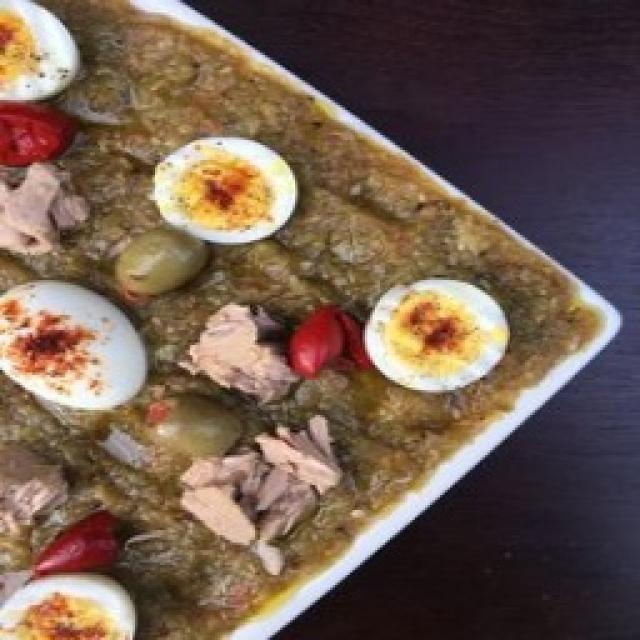Salade mechweya: (0, 1, 620, 640)
